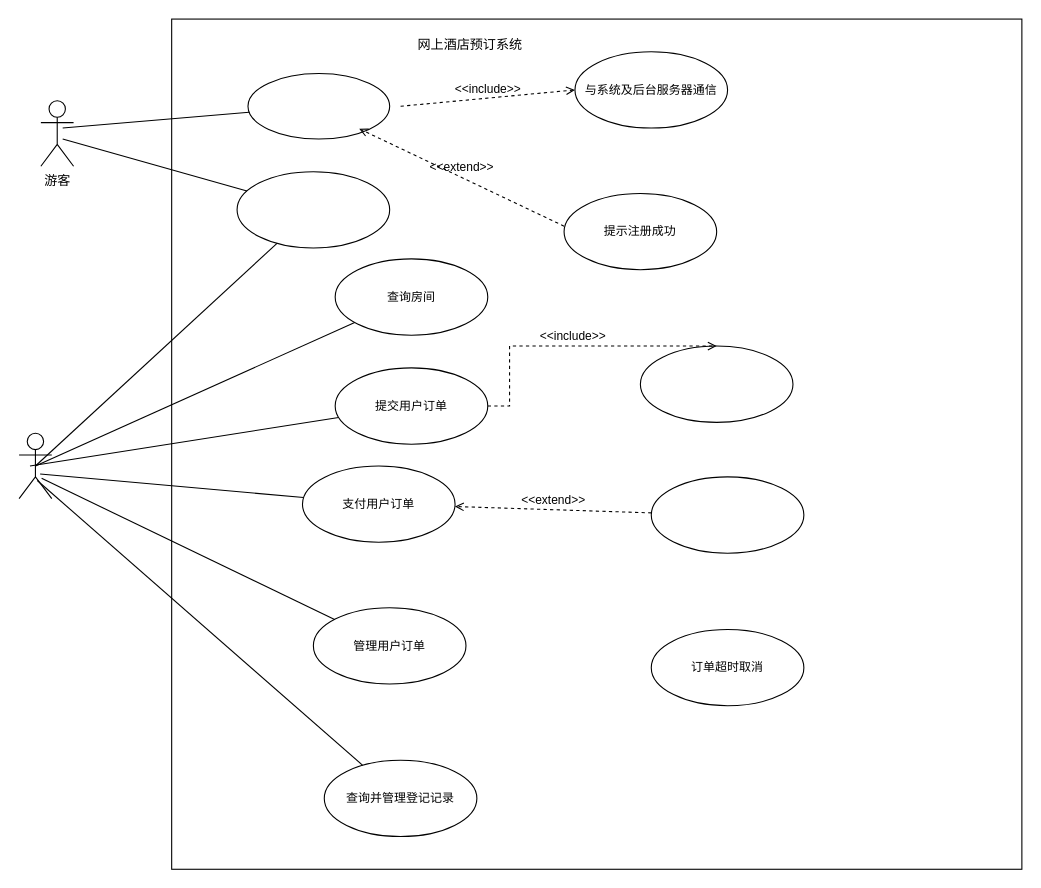
Some shapes in this 1041 by 888 pixel diagram are drawn without their labels. The shapes that lost their labels are listed below. From the top down, each one's centre as x and y in pixels, then its label:
At point 318,105: "注册成员会员".
At point 313,209: "游览网页".
At point 716,383: "房间折扣".
At point 35,465: "会员".
At point 727,514: "预订成功".
